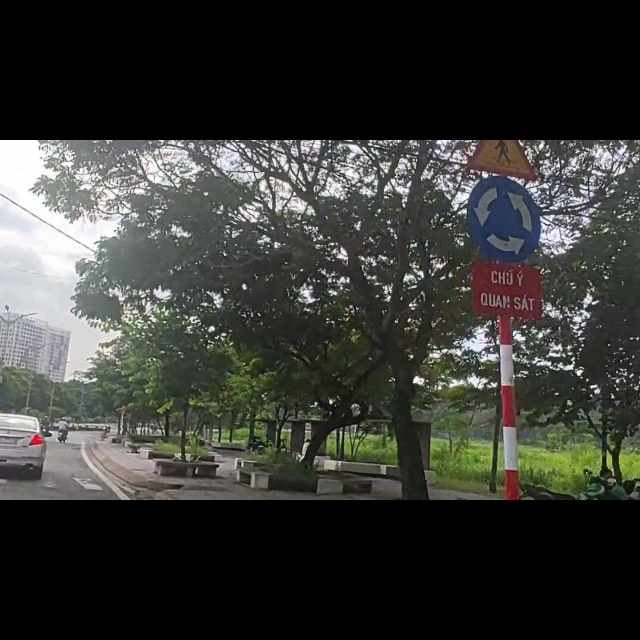bien_hieu_lenh: (463, 64, 549, 216), (466, 1, 539, 65)
